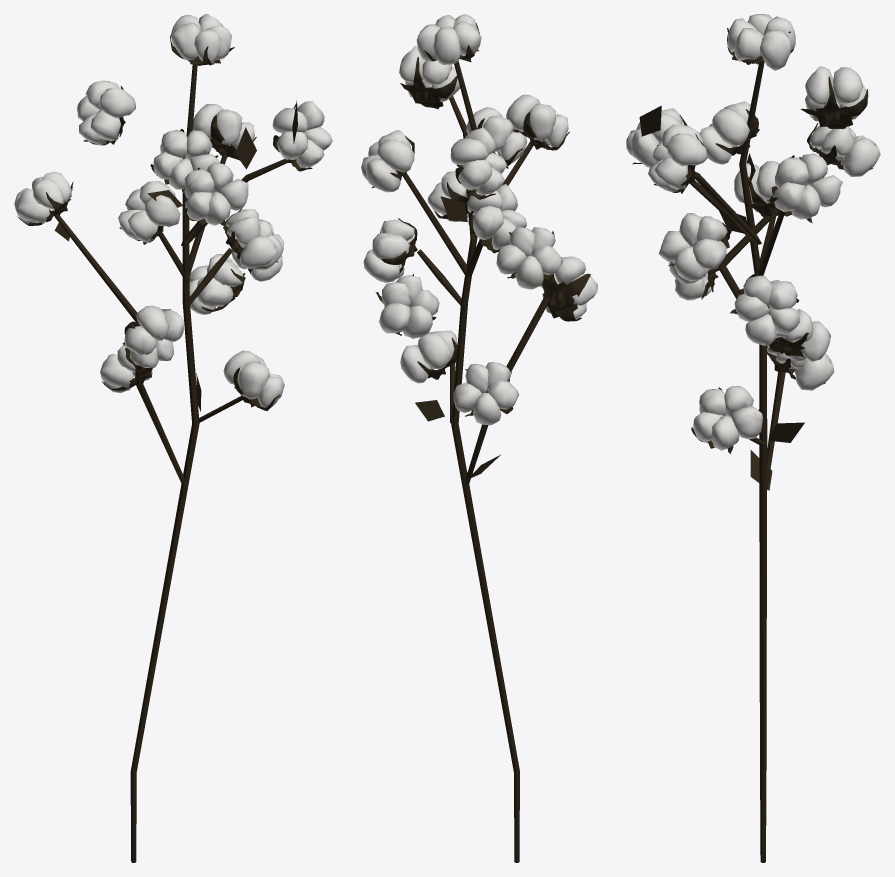
The model's file is 一株棉花.fbx.
3 renders of one model, left to right at view 1: azimuth 30°, elevation 25°; view 2: azimuth 150°, elevation 25°; view 3: azimuth 270°, elevation 25°, orthographic. The views are drawn at different scales.
Parts seen in each view (by area): view 1: dd_1, 扫描_1, 多边形; view 2: dd_1, 扫描_1, 多边形; view 3: dd_1, 扫描_1, 多边形.
Boxes of the visible parts, left/top/right/bottom form: dd_1: left=14, top=14, right=332, bottom=410; 扫描_1: left=54, top=64, right=291, bottom=862; 多边形: left=54, top=100, right=297, bottom=411; dd_1: left=361, top=14, right=597, bottom=425; 扫描_1: left=402, top=61, right=552, bottom=862; 多边形: left=415, top=58, right=501, bottom=479; dd_1: left=626, top=14, right=880, bottom=453; 扫描_1: left=689, top=61, right=785, bottom=862; 多边形: left=639, top=31, right=804, bottom=490.
Bounding box in the file's own units: 31.84 × 106 × 27.99.
